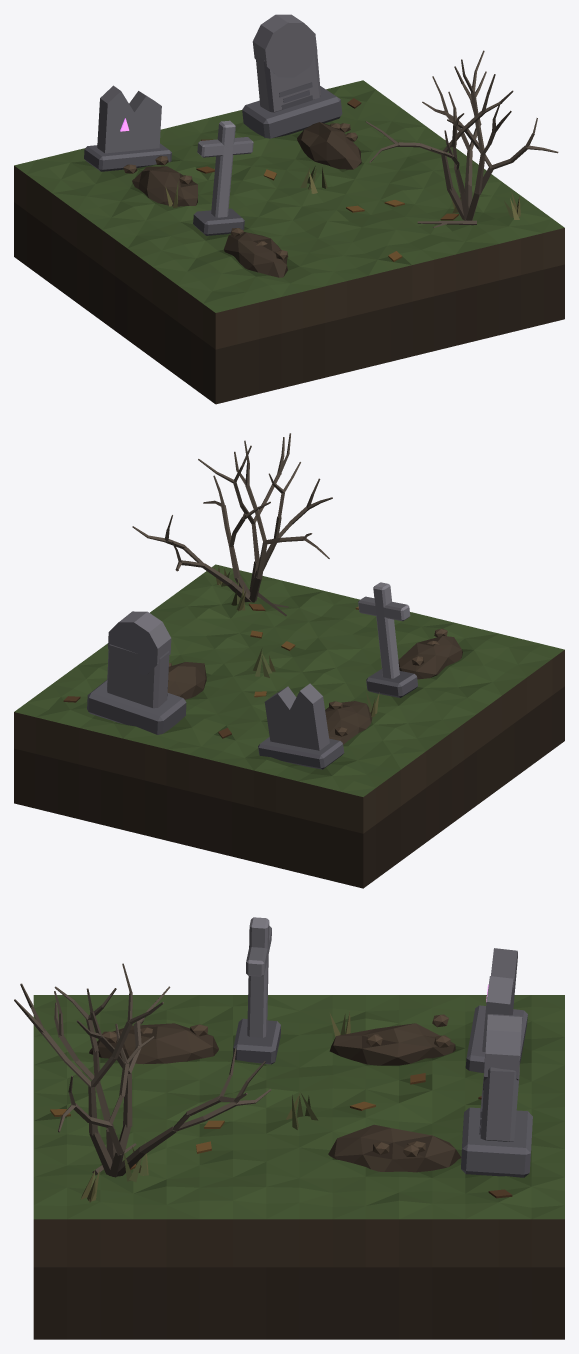
Rendered from haunt_graves_3.glb.
3 renders of one model, top to bottom at view 1: azimuth 30°, elevation 25°; view 2: azimuth 150°, elevation 25°; view 3: azimuth 270°, elevation 25°, orthographic. The views are drawn at different scales.
Parts seen in each view (by area): view 1: HauntGraves3; view 2: HauntGraves3; view 3: HauntGraves3.
Boxes of the visible parts, x1,y1,x2,y2 form: HauntGraves3: (14,14,564,404); HauntGraves3: (14,433,564,888); HauntGraves3: (14,917,564,1339).
Size of the model in its own units: 2.02 by 1.38 by 2.07.
